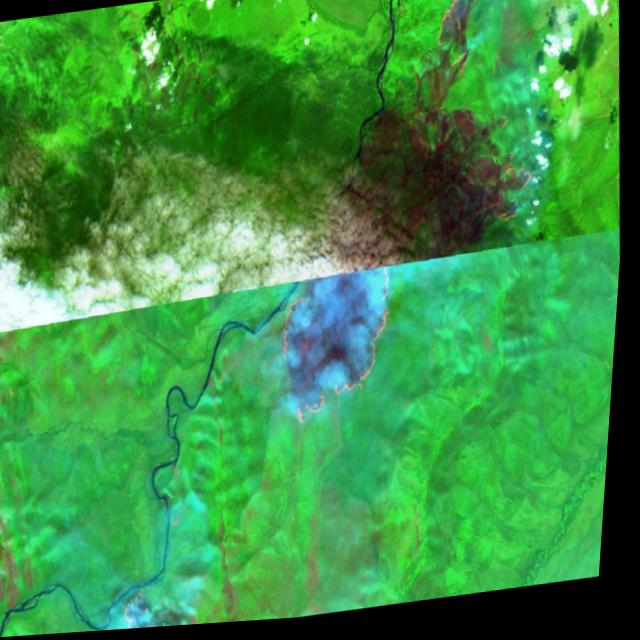fire: (425, 0, 553, 244), (270, 259, 414, 450), (121, 589, 177, 632)
